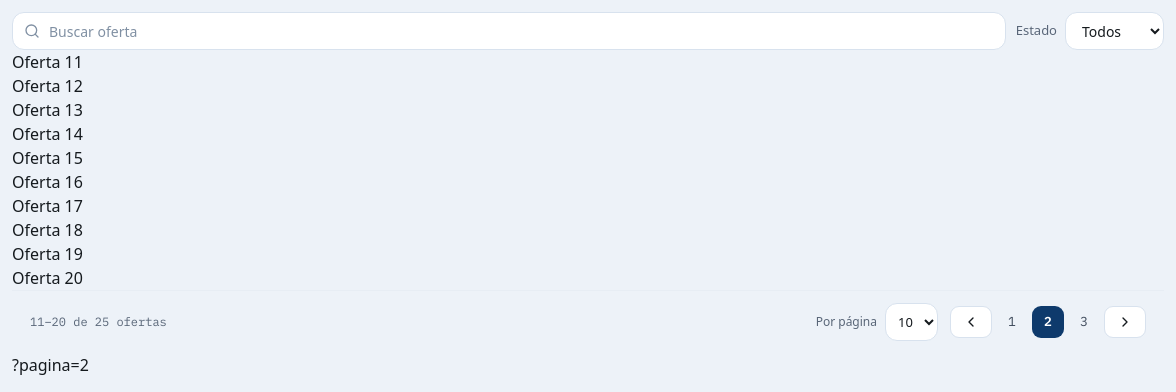
Scenario: ListToolbar + Pagination + useListing › searches without accents and goes back to page 1
Type "practica analisis" into the search field labelled "Buscar oferta" at (509, 31), box [12, 12, 1006, 50]
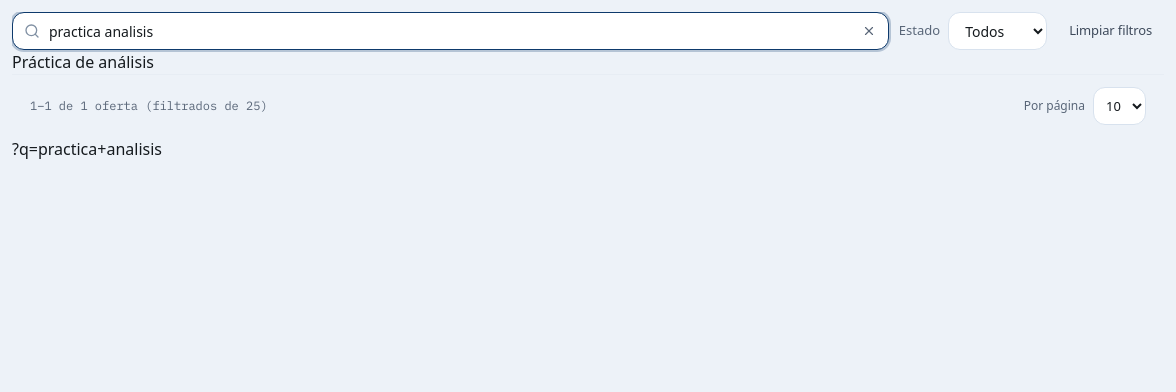
Check: the list items read "Práctica de análisis", in this order, box [12, 51, 154, 73]
Check: the text "1–1 de 1 oferta (filtrados de 25)" is shown, box [30, 97, 268, 115]
Check: the text with test id "url" no longer shows "pagina", box [12, 138, 162, 160]
